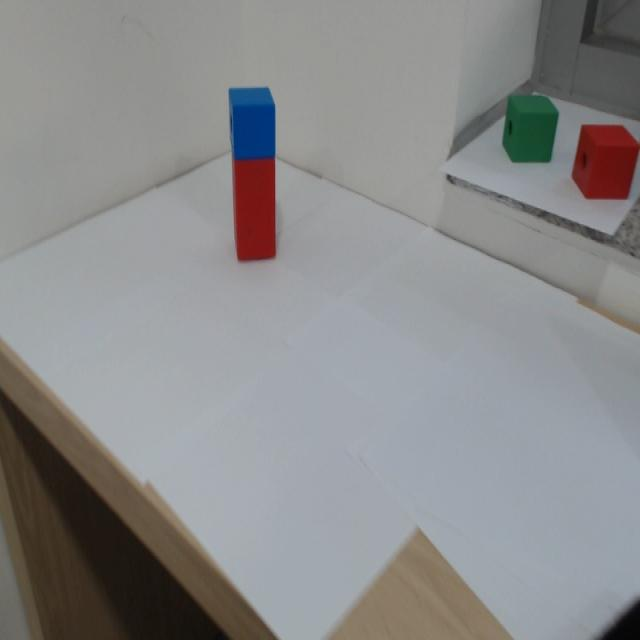cube: (220, 69, 289, 154)
